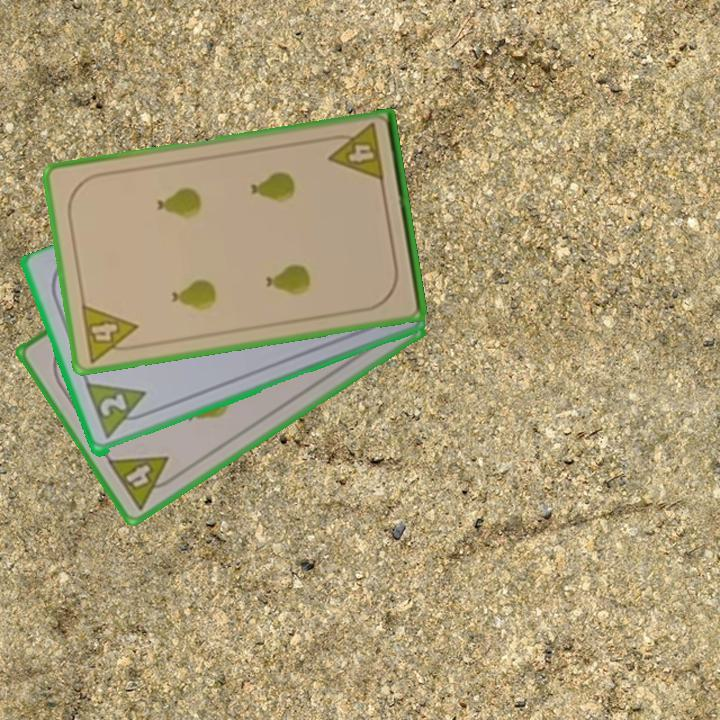2p: (96, 390, 129, 421)
4p: (103, 452, 183, 513), (77, 300, 143, 365), (323, 120, 387, 185)
